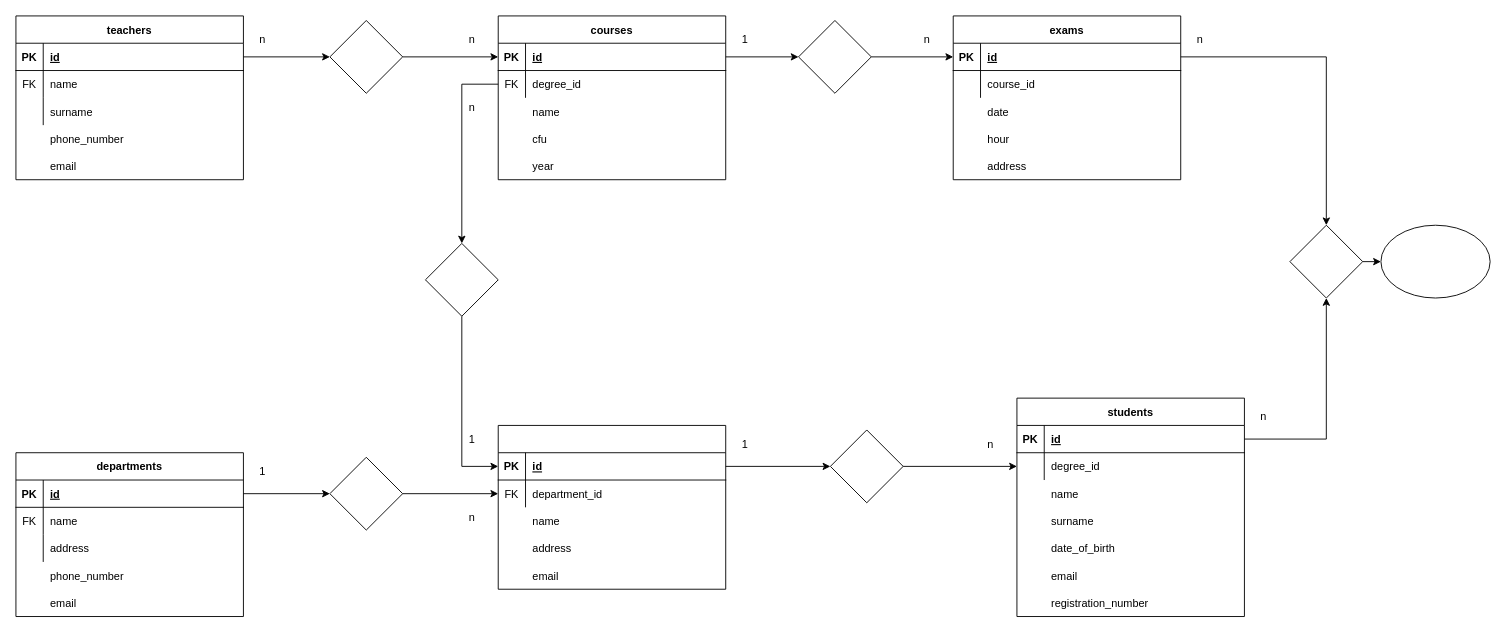
Some shapes in this 1506 by 632 pixel diagram are drawn without their labels. Here are the shapes that lost their labels. From the top down, the box of each, then its label:
(1380, 224, 1490, 298): vote
(497, 425, 726, 589): degrees
